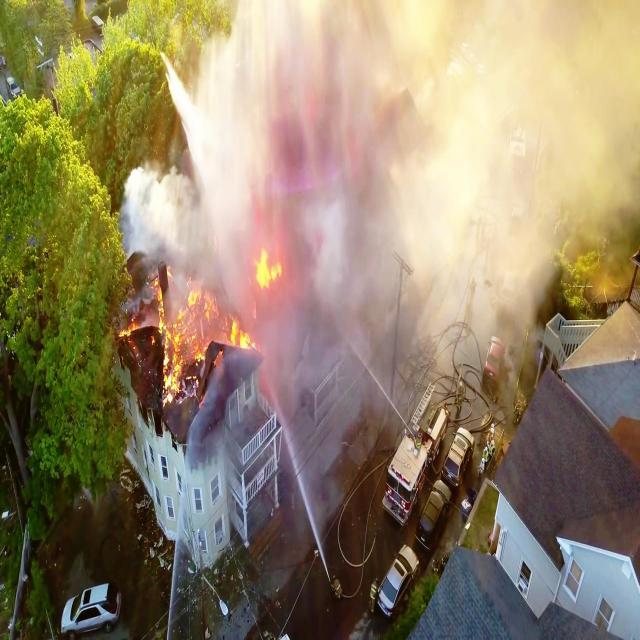Fire: (165, 274, 217, 376), (254, 243, 284, 297)
Smoke: (236, 11, 640, 240)
